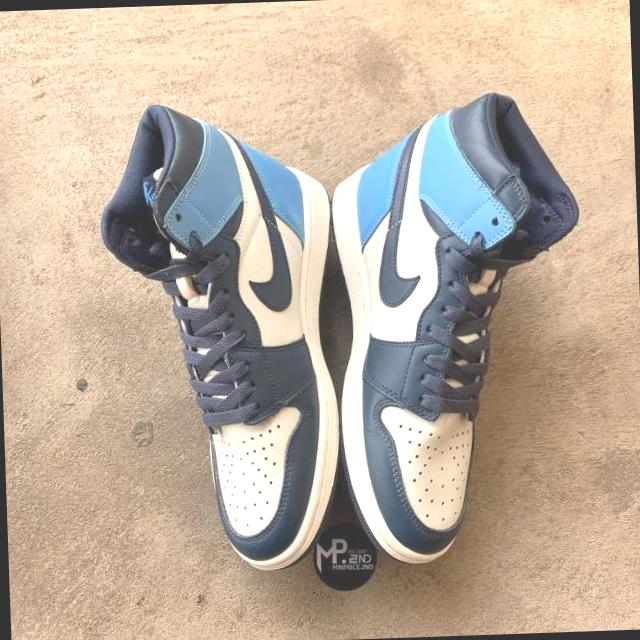nike_original_jordan: (325, 89, 590, 570), (100, 98, 352, 576)
